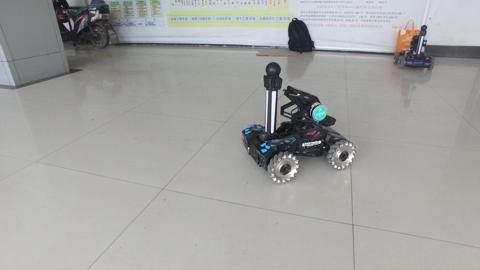bag: (284, 16, 318, 56), (396, 16, 420, 54)
chariot: (239, 61, 357, 184), (391, 23, 435, 71)
